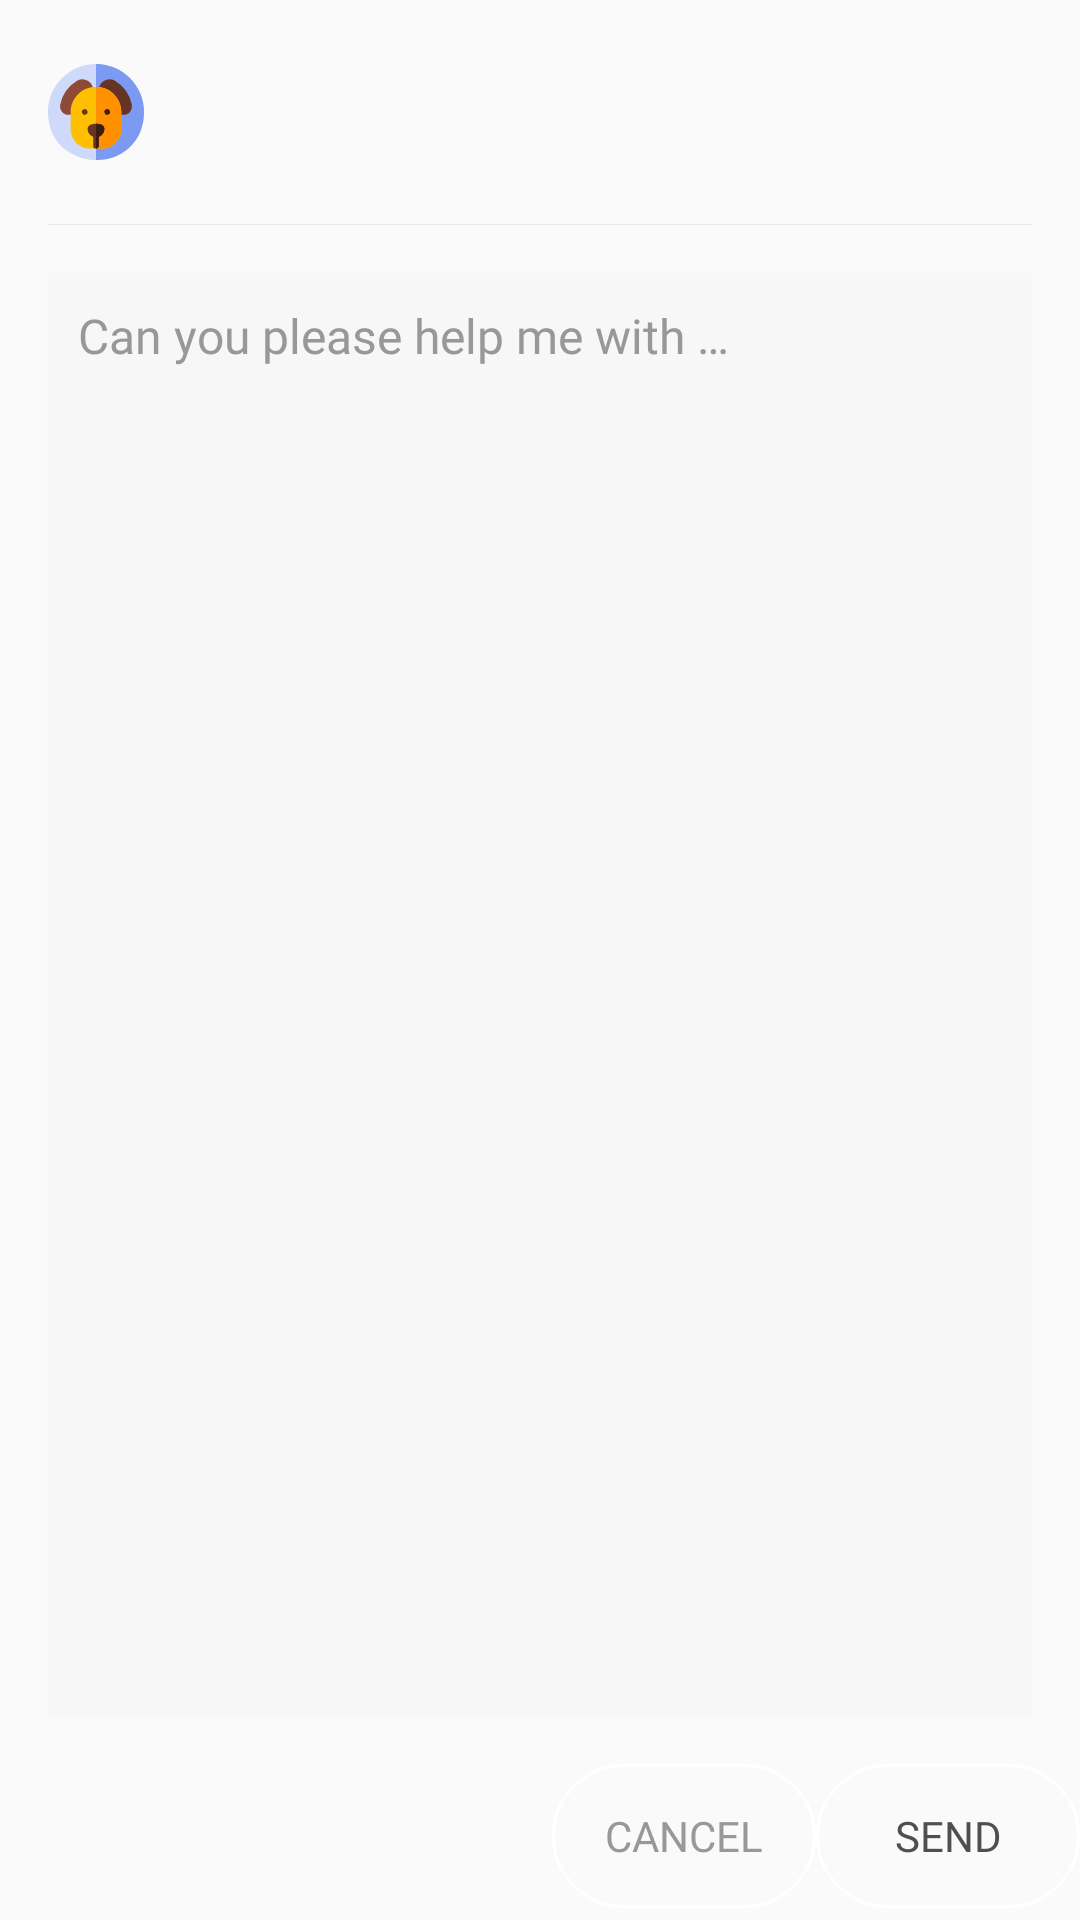

Icon bounding boxes for this 1080x1920 phone screenshot, format (left=x1, top=y1, right=x2, bottom=y2):
Profile: (left=48, top=64, right=144, bottom=160)
